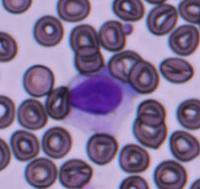L: (68, 64, 134, 134)
